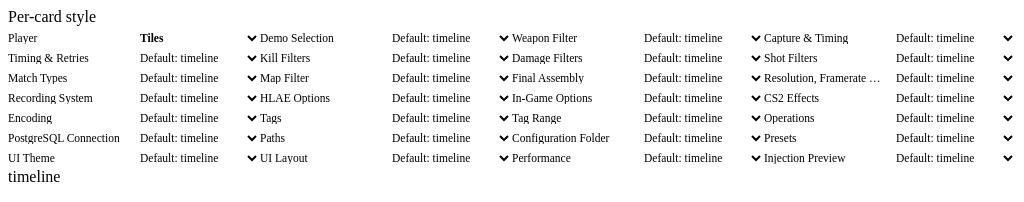
Test case: Per-card style › pins one card, live, and Default removes the pin
This screenshot has width=1024, height=202.
Expected: the text with test id "style-of-map-filter" reads "timeline", left=8, top=168, right=60, bottom=185
Select "Sentence" in the dropdown labelled "Map Filter" at (446, 78), box left=380, top=68, right=512, bottom=88
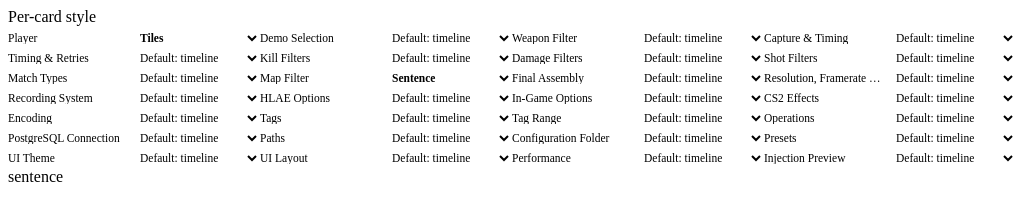
Result: the text with test id "style-of-map-filter" reads "sentence" at left=8, top=168, right=63, bottom=185
Select "Default: timeline" in the dropdown labelled "Map Filter" at (446, 78), box left=380, top=68, right=512, bottom=88
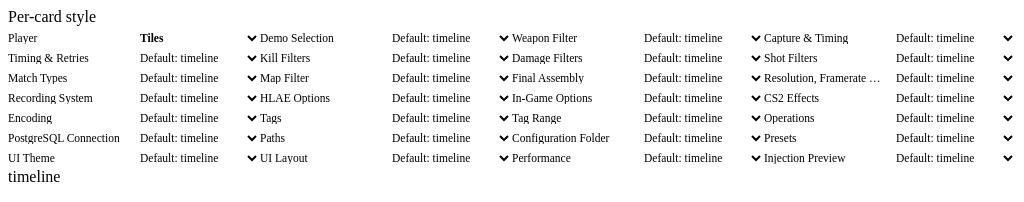
Result: the text with test id "style-of-map-filter" reads "timeline" at left=8, top=168, right=60, bottom=185
